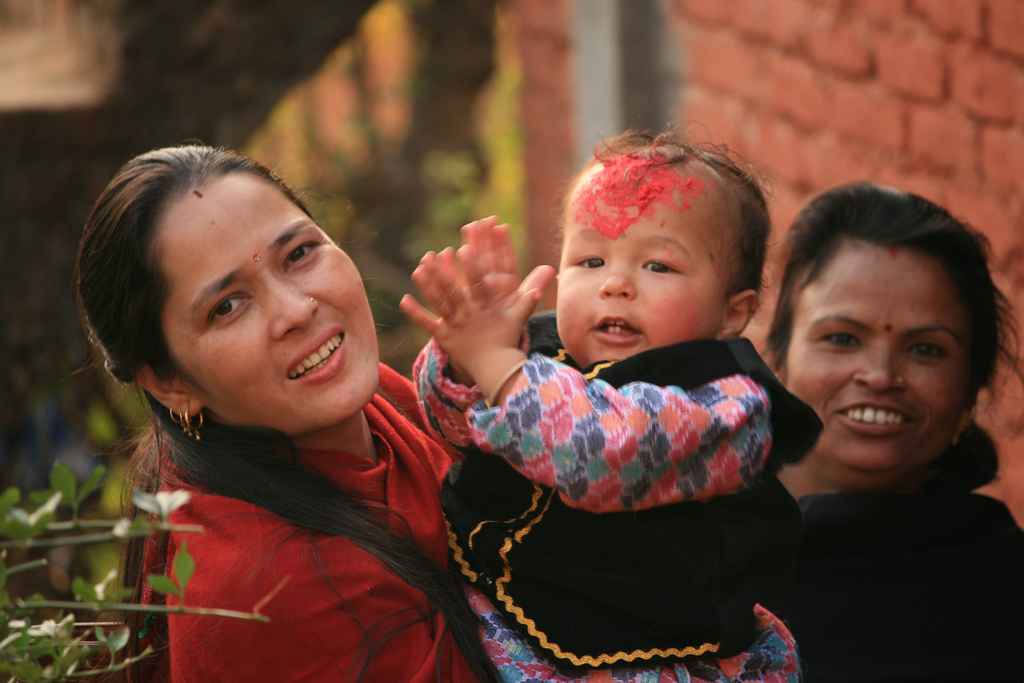human: (46, 126, 491, 683), (391, 125, 809, 683), (766, 164, 1024, 683)
